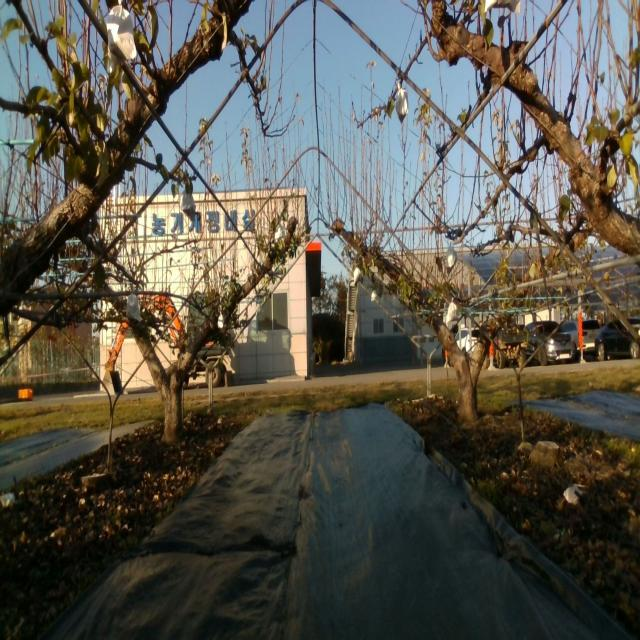pearbags: (106, 0, 136, 65), (395, 82, 409, 122), (180, 190, 196, 222), (126, 294, 142, 324), (446, 298, 460, 326), (445, 243, 457, 275)
